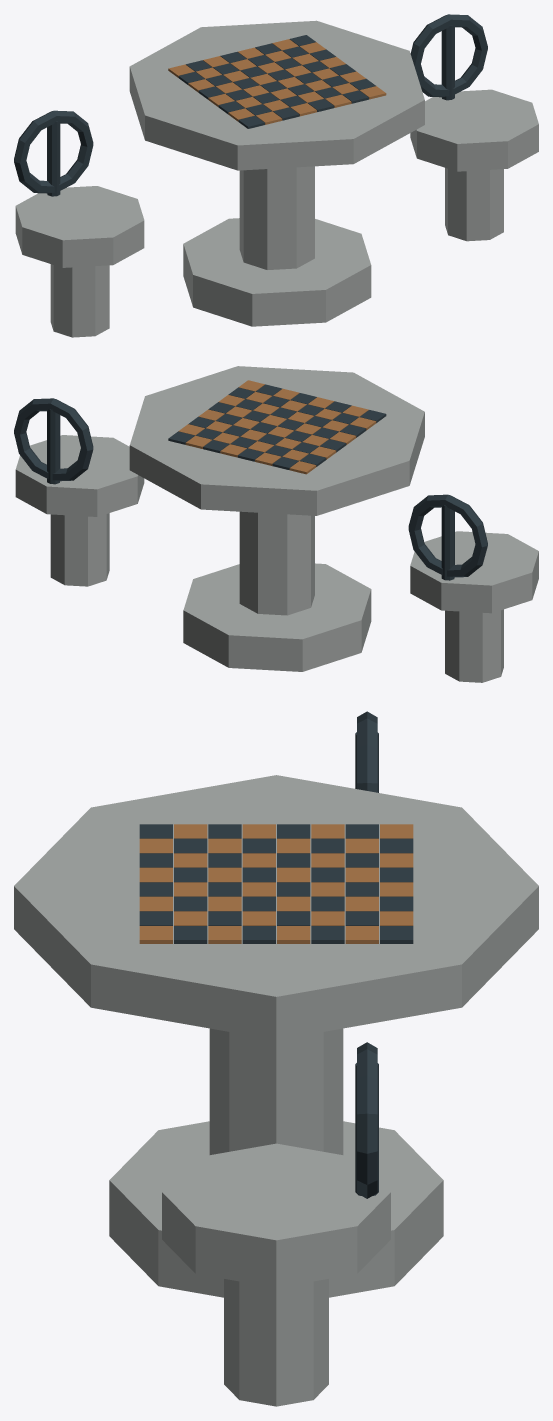
Rendered from b01_outdoor_chess_pedestal_table.glb.
The picture shows the model from 3 angles, top to bottom: view 1: azimuth 30°, elevation 25°; view 2: azimuth 150°, elevation 25°; view 3: azimuth 270°, elevation 25°; orthographic projection. The views are drawn at different scales.
Visible parts, largest first — view 1: b01_outdoor_chess_pedestal_table; view 2: b01_outdoor_chess_pedestal_table; view 3: b01_outdoor_chess_pedestal_table.
Part boxes in pixels (x1,y1,x2,y2): b01_outdoor_chess_pedestal_table: [14, 14, 538, 337]; b01_outdoor_chess_pedestal_table: [14, 366, 538, 682]; b01_outdoor_chess_pedestal_table: [14, 711, 538, 1406].
Size of the model in its own units: 2.12 by 0.819 by 1.1.
